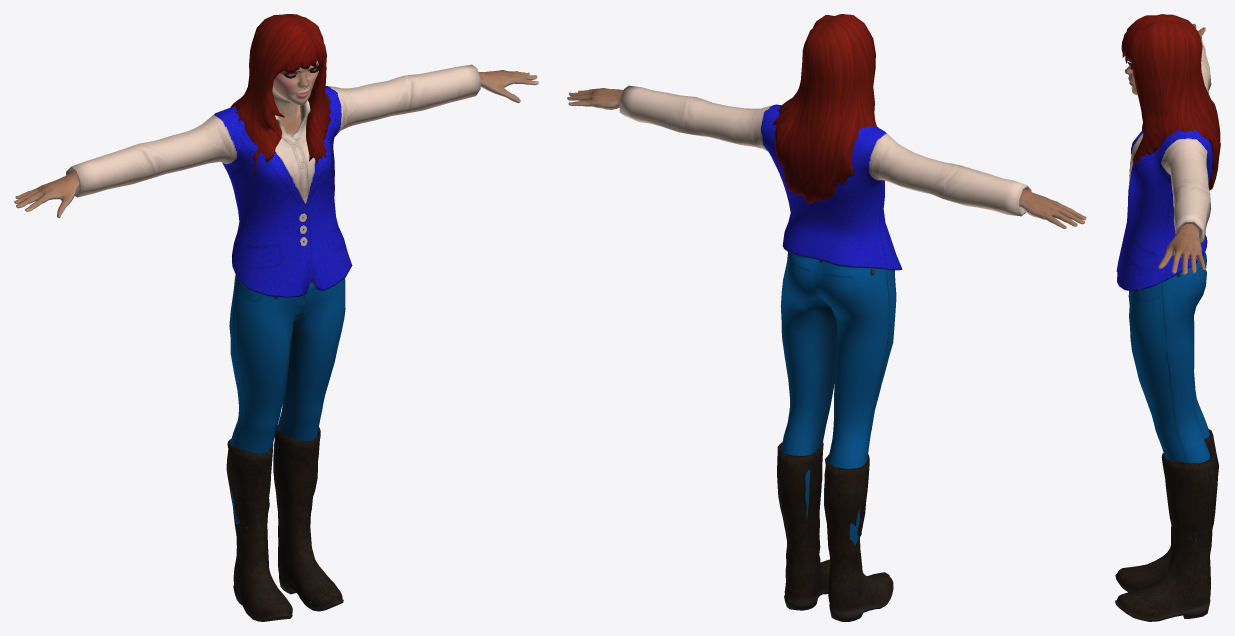
File: FuseModel.obj
3 views of the same model, side by side, from view 1: azimuth 30°, elevation 25°; view 2: azimuth 150°, elevation 25°; view 3: azimuth 270°, elevation 25° (orthographic).
Visible parts, largest first — view 1: Tops, Bottoms, Shoes, Hair, Body; view 2: Tops, Bottoms, Hair, Shoes, Body; view 3: Bottoms, Tops, Shoes, Hair, Body.
Boxes of the visible parts, x1,y1,x2,y2 form: Tops: (66, 64, 480, 297); Bottoms: (229, 275, 345, 541); Shoes: (226, 425, 343, 621); Hair: (230, 14, 330, 176); Body: (14, 61, 538, 218); Tops: (619, 85, 1031, 270); Bottoms: (780, 252, 896, 545); Hair: (772, 14, 877, 204); Shoes: (777, 442, 893, 621); Body: (567, 88, 1086, 228); Bottoms: (1128, 252, 1210, 561); Tops: (1116, 36, 1212, 291); Shoes: (1115, 429, 1218, 621); Hair: (1121, 14, 1220, 190); Body: (1124, 23, 1205, 274).
Size of the model in its own units: 173 by 187 by 30.54.
5 materials, 5 textured.
